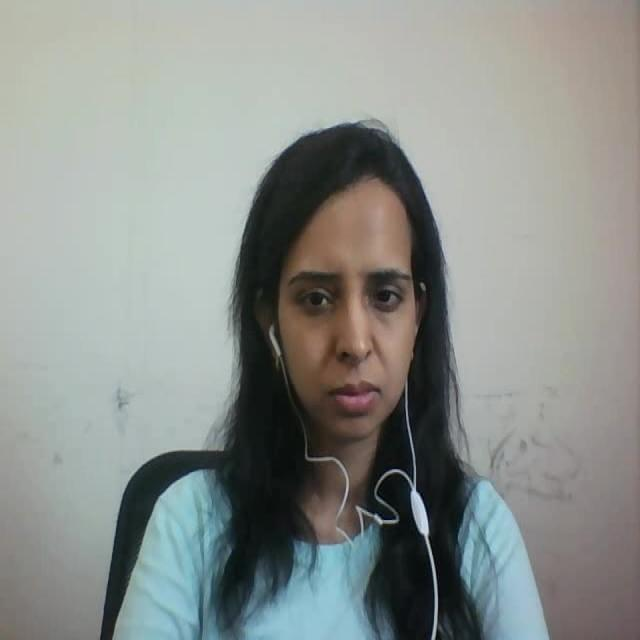Engaged: (217, 119, 540, 454)
